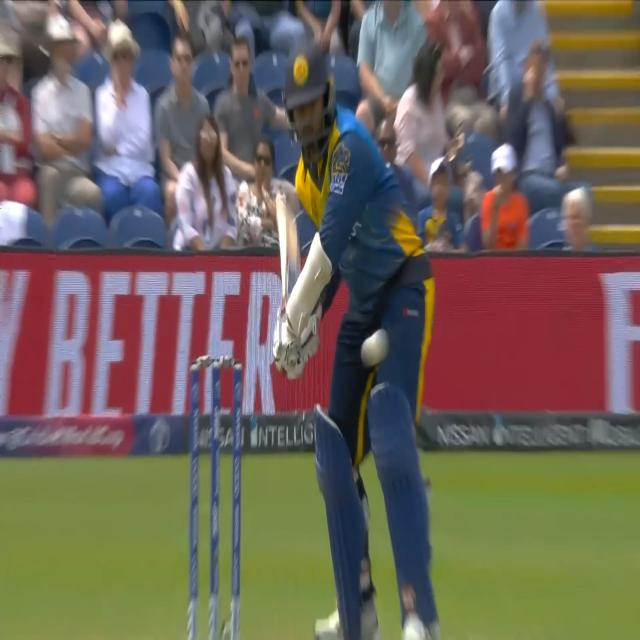ball: (360, 330, 388, 373)
